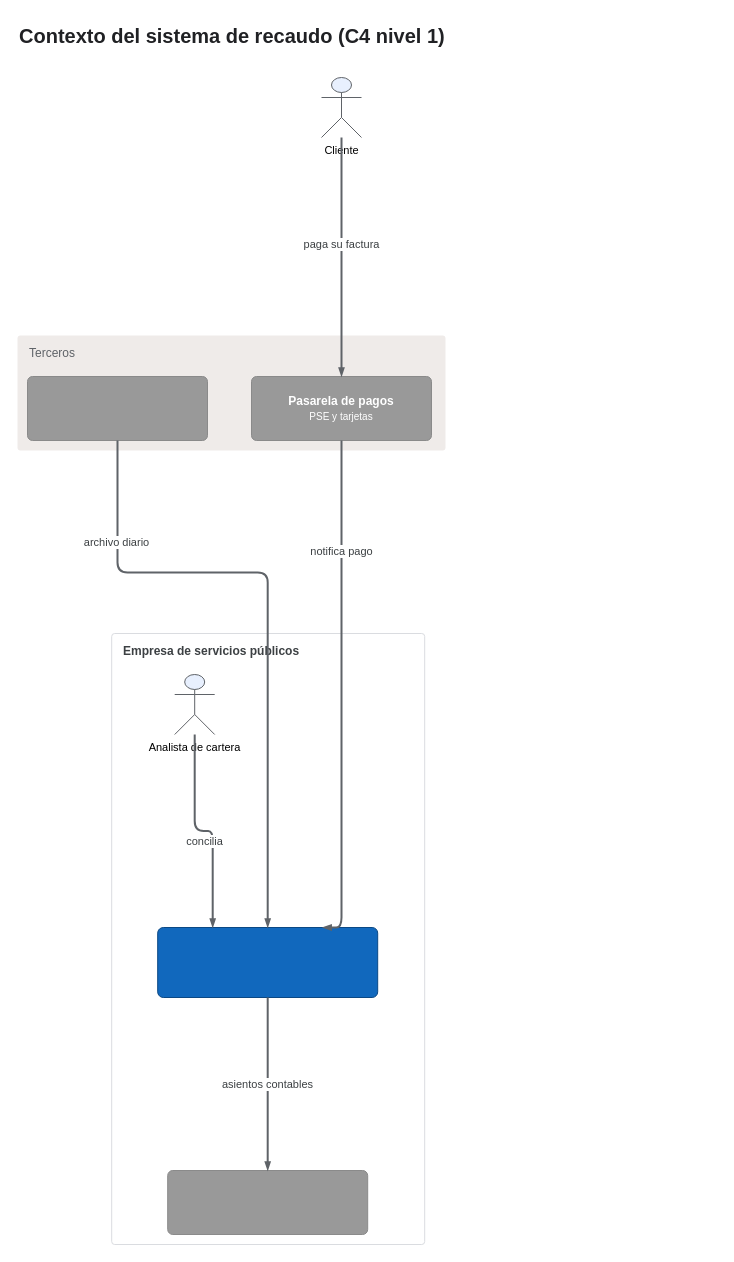
This 734x1262 diagram has some shape labels left out. Each missing label, with the centre of its shape:
Bancos Archivos de pagos: [117,408]
ERP Facturación y contabilidad: [267,1202]
Sistema de recaudo Registra pagos y concilia cartera: [267,962]
